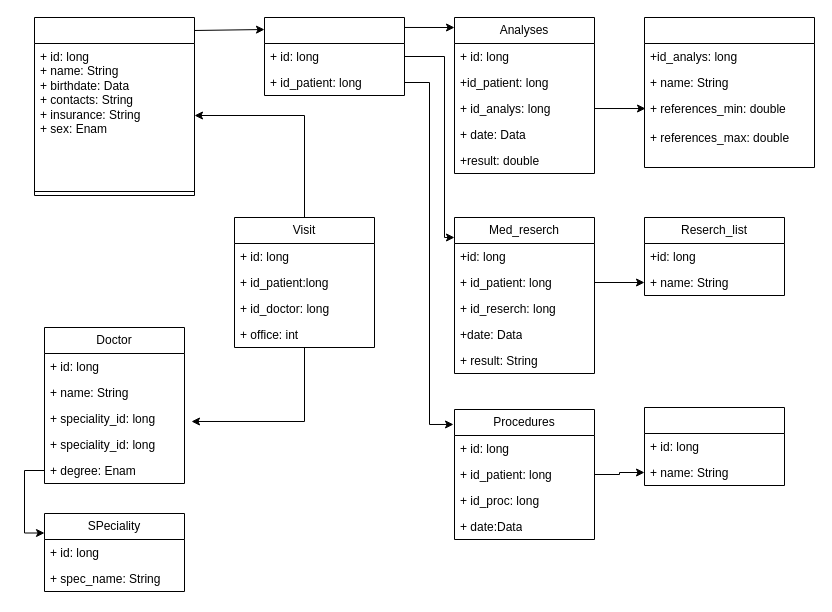
This 832x612 diagram has some shape labels left out. Here are the shapes that lost their labels. From the top down, the box of each, then its label:
(264, 16, 404, 96): History
(34, 16, 194, 196): Patient
(644, 16, 814, 168): Analys_list
(644, 406, 784, 486): Procedure_list
